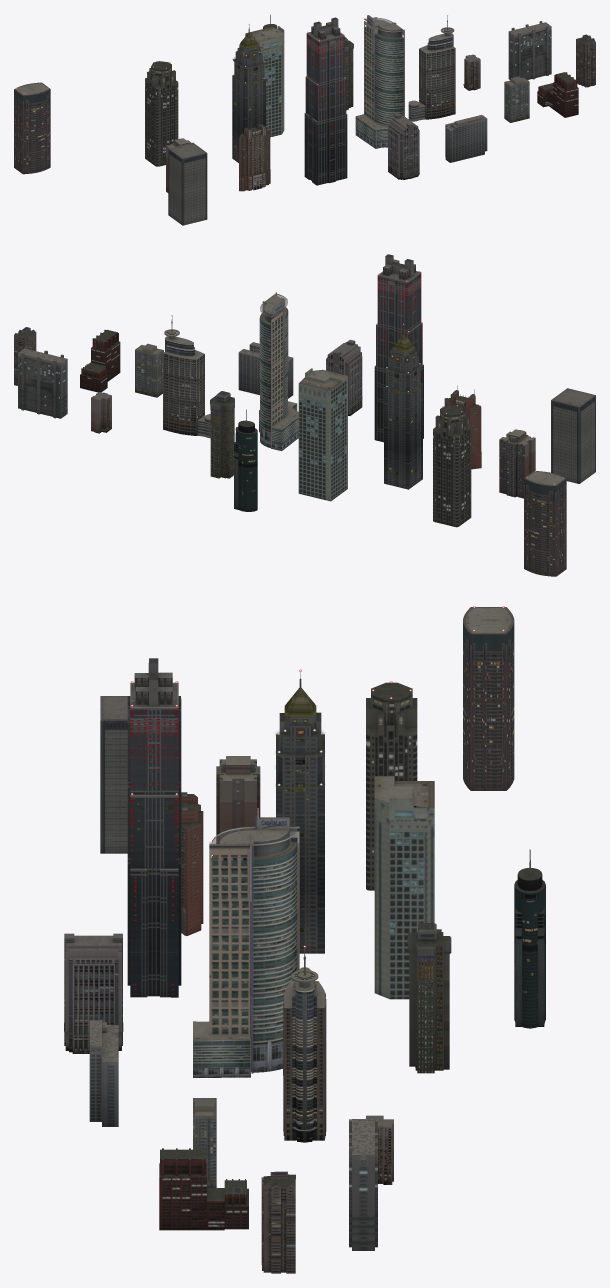
File: city-building-pack.glb
3 views of the same model, one above another, from view 1: azimuth 30°, elevation 25°; view 2: azimuth 150°, elevation 25°; view 3: azimuth 270°, elevation 25° (orthographic). The views are drawn at different scales.
Parts seen in each view (by area): view 1: BACKGROUND_BUILDINGS_1.009, BACKGROUND_BUILDING_2, BACKGROUND_BUILDINGS_1, BACKGROUND_BUILDINGS_1.007, BACKGROUND_BUILDING_2.008, BACKGROUND_BUILDINGS_1.008, BACKGROUND_BUILDINGS_1.002, BACKGROUND_BUILDING_2.007, BACKGROUND_BUILDING_2.005, BACKGROUND_BUILDINGS_1.004, BACKGROUND_BUILDING_2.001, BACKGROUND_BUILDING_2.002 (+5 smaller); view 2: BACKGROUND_BUILDING_2.007, BACKGROUND_BUILDINGS_1.008, BACKGROUND_BUILDINGS_1.009, BACKGROUND_BUILDING_2, BACKGROUND_BUILDING_2.008, BACKGROUND_BUILDINGS_1.007, BACKGROUND_BUILDINGS_1, BACKGROUND_BUILDINGS_1.002, BACKGROUND_BUILDING_2.005, BACKGROUND_BUILDINGS_1.001, BACKGROUND_BUILDINGS_1.003, BACKGROUND_BUILDINGS_1.006 (+7 smaller); view 3: BACKGROUND_BUILDING_2, BACKGROUND_BUILDINGS_1.009, BACKGROUND_BUILDING_2.007, BACKGROUND_BUILDINGS_1.007, BACKGROUND_BUILDINGS_1.008, BACKGROUND_BUILDINGS_1, BACKGROUND_BUILDING_2.001, BACKGROUND_BUILDINGS_1.006, BACKGROUND_BUILDING_2.004, BACKGROUND_BUILDING_2.008, BACKGROUND_BUILDINGS_1.001, BACKGROUND_BUILDINGS_1.002 (+7 smaller).
Boxes of the visible parts, <box> form: BACKGROUND_BUILDINGS_1.009: <box>304,17,347,185</box>; BACKGROUND_BUILDING_2: <box>355,15,404,148</box>; BACKGROUND_BUILDINGS_1: <box>408,16,455,121</box>; BACKGROUND_BUILDINGS_1.007: <box>14,82,50,174</box>; BACKGROUND_BUILDING_2.008: <box>145,61,178,166</box>; BACKGROUND_BUILDINGS_1.008: <box>232,25,265,162</box>; BACKGROUND_BUILDINGS_1.002: <box>168,142,207,225</box>; BACKGROUND_BUILDING_2.007: <box>245,26,284,137</box>; BACKGROUND_BUILDING_2.005: <box>508,21,551,80</box>; BACKGROUND_BUILDINGS_1.004: <box>239,124,270,191</box>; BACKGROUND_BUILDING_2.001: <box>388,113,419,179</box>; BACKGROUND_BUILDING_2.002: <box>445,115,487,162</box>; BACKGROUND_BUILDING_2.007: <box>298,368,347,501</box>; BACKGROUND_BUILDINGS_1.008: <box>384,325,422,489</box>; BACKGROUND_BUILDINGS_1.009: <box>374,254,423,442</box>; BACKGROUND_BUILDING_2: <box>259,293,298,450</box>; BACKGROUND_BUILDING_2.008: <box>433,405,471,527</box>; BACKGROUND_BUILDINGS_1.007: <box>524,471,566,576</box>; BACKGROUND_BUILDINGS_1: <box>163,316,210,438</box>; BACKGROUND_BUILDINGS_1.002: <box>551,388,595,483</box>; BACKGROUND_BUILDING_2.005: <box>18,346,67,418</box>; BACKGROUND_BUILDINGS_1.001: <box>234,409,257,511</box>; BACKGROUND_BUILDINGS_1.003: <box>499,429,535,498</box>; BACKGROUND_BUILDINGS_1.006: <box>210,391,234,478</box>; BACKGROUND_BUILDING_2: <box>193,808,299,1077</box>; BACKGROUND_BUILDINGS_1.009: <box>127,658,181,997</box>; BACKGROUND_BUILDING_2.007: <box>374,776,434,999</box>; BACKGROUND_BUILDINGS_1.007: <box>463,607,514,790</box>; BACKGROUND_BUILDINGS_1.008: <box>276,672,324,953</box>; BACKGROUND_BUILDINGS_1: <box>283,947,326,1142</box>; BACKGROUND_BUILDING_2.001: <box>64,933,123,1053</box>; BACKGROUND_BUILDINGS_1.006: <box>407,923,451,1073</box>; BACKGROUND_BUILDING_2.004: <box>159,1148,248,1230</box>; BACKGROUND_BUILDING_2.008: <box>366,682,417,890</box>; BACKGROUND_BUILDINGS_1.001: <box>514,849,545,1028</box>; BACKGROUND_BUILDINGS_1.002: <box>100,696,127,853</box>.
Bounding box in the file's own units: 1049 × 301 × 419.
4 materials, 4 textured.
